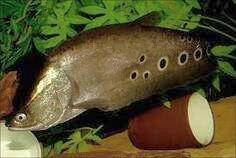Knifefish: (6, 10, 216, 132)
